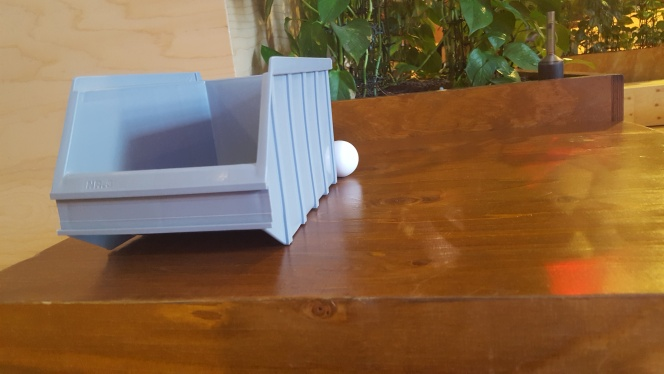egg: (334, 137, 360, 179)
tray_front: (50, 56, 276, 246)
